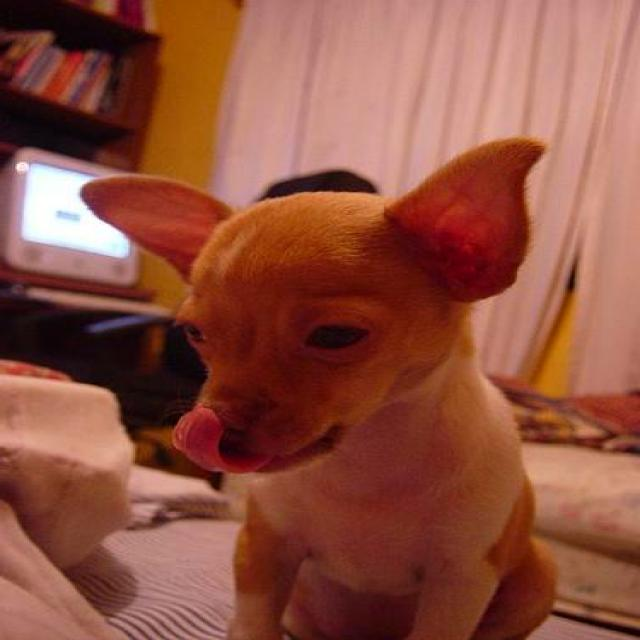chihuahua: (81, 125, 562, 638)
